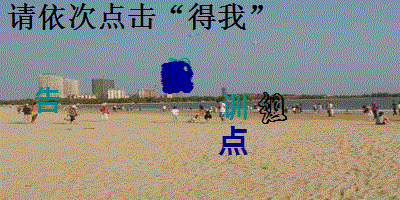result: (188, 1, 249, 32)
text: (159, 60, 195, 95), (256, 90, 289, 125), (219, 124, 249, 158), (33, 85, 64, 115), (220, 90, 249, 121)
